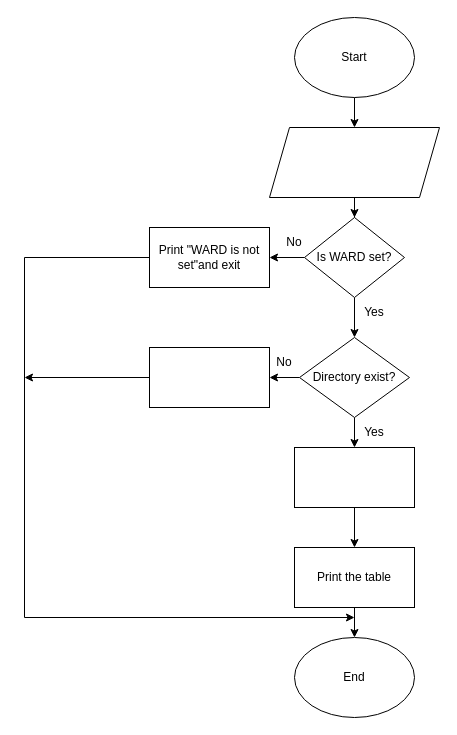
This 457x735 diagram has some shape labels left out. Here are the shapes that lost their labels. From the top down, the centre of each, then its label:
(x=354, y=162): Get the ward environment variable
(x=209, y=377): Print "The directory is not readable: {directory}" and exit
(x=354, y=477): Check for pass/fail stage in log directory
